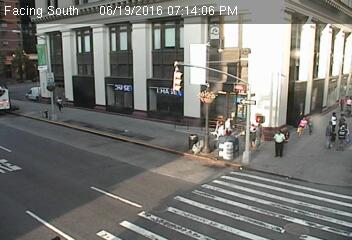neg: (76, 148, 112, 195), (294, 45, 326, 88), (259, 70, 290, 111), (188, 196, 218, 237), (71, 72, 101, 111), (236, 34, 263, 70), (25, 159, 50, 193), (183, 129, 208, 162), (129, 132, 154, 165), (132, 71, 157, 103), (295, 183, 319, 214), (26, 39, 49, 70), (194, 75, 217, 105), (28, 112, 49, 141), (163, 60, 184, 88), (222, 129, 242, 156), (107, 38, 124, 61)
pos: (264, 125, 290, 160), (319, 120, 341, 149), (295, 112, 313, 136), (51, 91, 65, 110), (329, 111, 338, 123)
